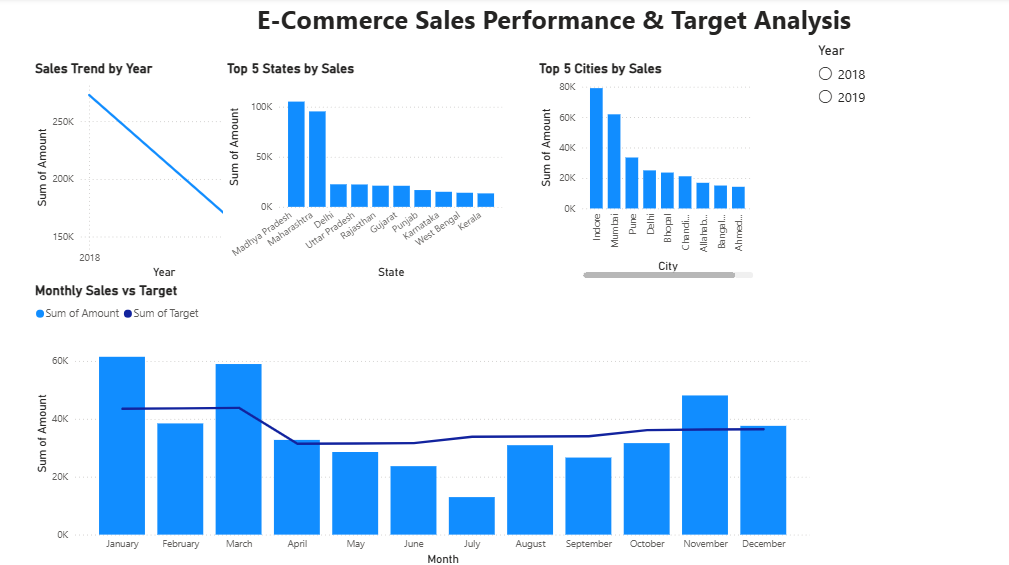

Layout of this report page (visuals, bound fields, positions):
{"tool":"powerbi","page":{"name":"Page 2","canvas":[1280,720],"ordinal":1},"visuals":[{"type":"lineChart","title":"Sales Trend by Year","fields":{"Category":["List of Orders.Order Date.Variation.Date Hierarchy.Year","List of Orders.Order Date.Variation.Date Hierarchy.Month"],"Y":["Sum(Order Details.Amount)"]},"box":[41.6,79.4,279.7,279.7],"z":0},{"type":"clusteredColumnChart","title":"Top 5 States by Sales","fields":{"Category":["List of Orders.State"],"Y":["Sum(Order Details.Amount)"]},"box":[283.5,79.4,357.2,279.7],"z":1000},{"type":"clusteredColumnChart","title":"Top 5 Cities by Sales","fields":{"Category":["List of Orders.City"],"Y":["Sum(Order Details.Amount)"]},"box":[676.5,79.4,279.7,279.7],"z":2000},{"type":"lineClusteredColumnComboChart","title":"Monthly Sales vs Target","fields":{"Y":["Sum(Order Details.Amount)"],"Y2":["Sum(Sales target.Target)"],"Category":["MonthTable.Month"]},"box":[41.6,359.1,986.5,360.9],"z":3000},{"type":"textbox","box":[321.3,0,839.1,56.7],"z":4000},{"type":"listSlicer","fields":{"Values":["List of Orders.Order Date.Variation.Date Hierarchy.Year"]},"box":[1028,56.7,164.4,92.6],"z":4001}]}

Visuals, with their boxes in screenshot pixels (x1, y1, x2, y2), scaled from the page's 1280x720 canvas onto the 1009x565 screenshot:
"Sales Trend by Year" lineChart: detection(33, 62, 253, 282)
"Top 5 States by Sales" clusteredColumnChart: detection(223, 62, 505, 282)
"Top 5 Cities by Sales" clusteredColumnChart: detection(533, 62, 754, 282)
"Monthly Sales vs Target" lineClusteredColumnComboChart: detection(33, 282, 810, 564)
textbox: detection(253, 0, 915, 44)
listSlicer - List of Orders.Order Date.Variation.Date Hierarchy.Year: detection(810, 44, 940, 117)
